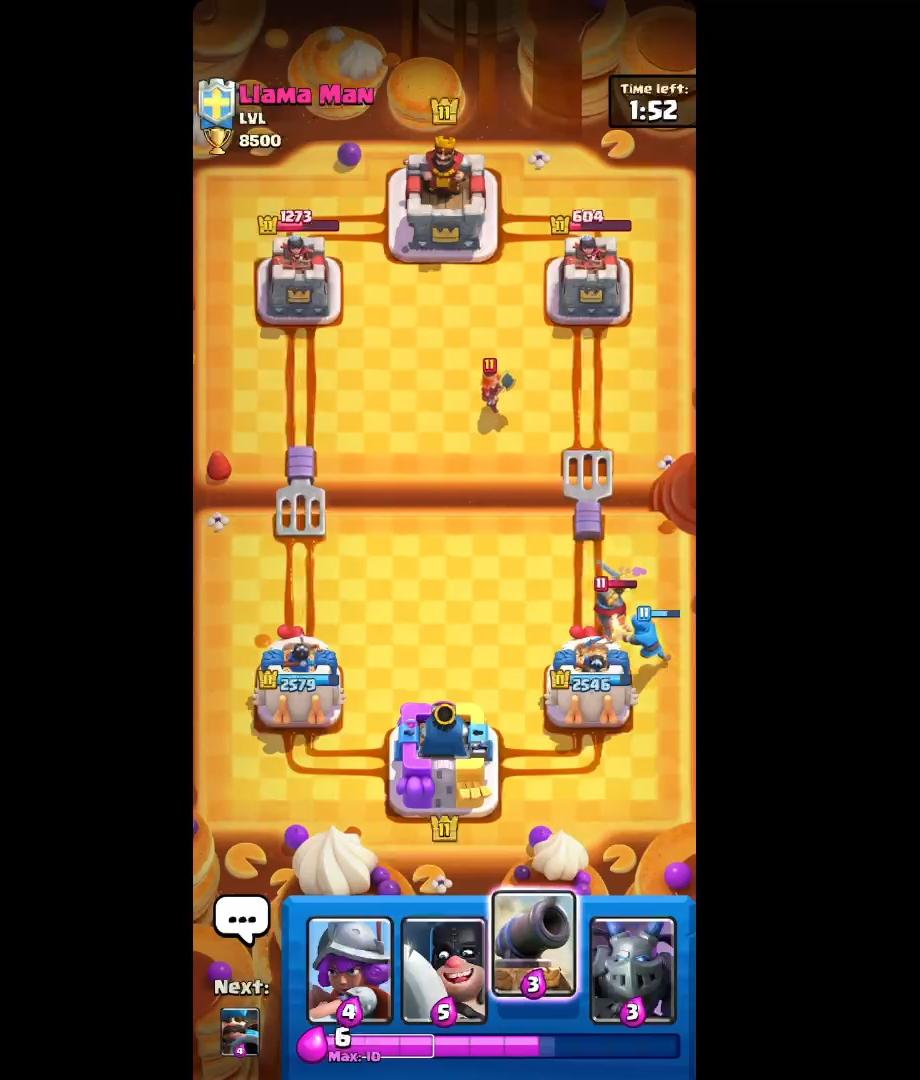Knight: (584, 573, 640, 644)
Valkyrie: (474, 353, 518, 421)
